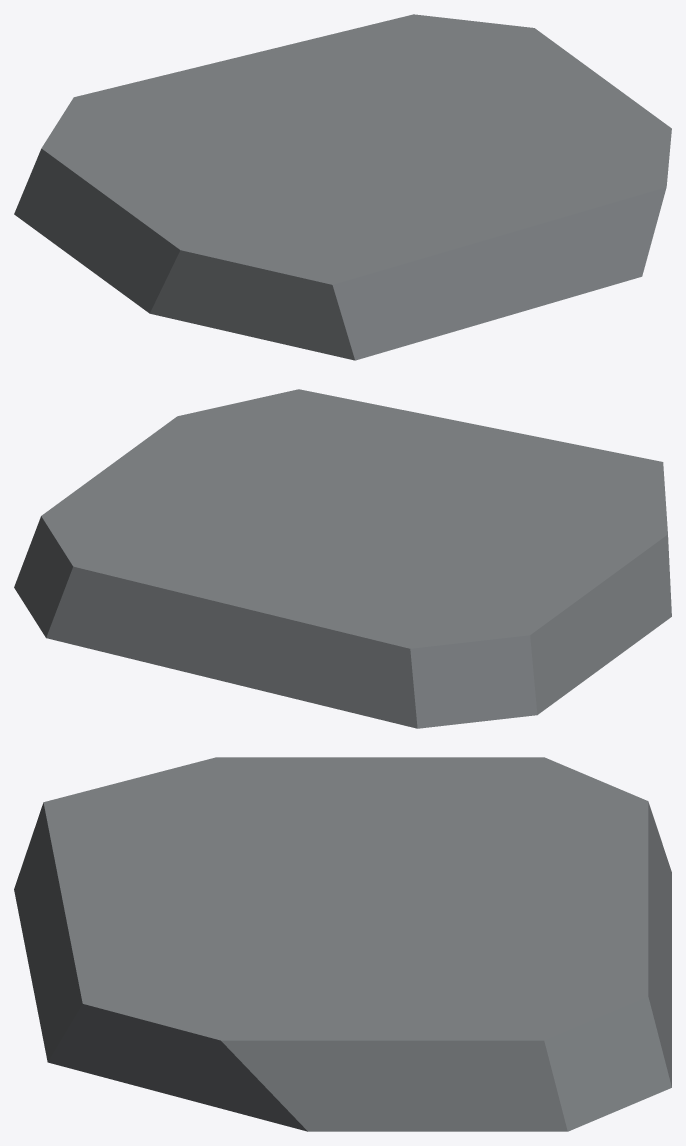
The model's file is Rock_Tile_m_14.fbx.
3 views of the same model, one above another, from view 1: azimuth 30°, elevation 25°; view 2: azimuth 150°, elevation 25°; view 3: azimuth 270°, elevation 25° (orthographic). The views are drawn at different scales.
Visible parts, largest first — view 1: Rock_Tile_m_14; view 2: Rock_Tile_m_14; view 3: Rock_Tile_m_14.
Part boxes in pixels (x1,y1,x2,y2): Rock_Tile_m_14: (14,14,671,360); Rock_Tile_m_14: (14,389,671,728); Rock_Tile_m_14: (14,757,671,1131).
Size of the model in its own units: 40 by 5 by 36.67.
